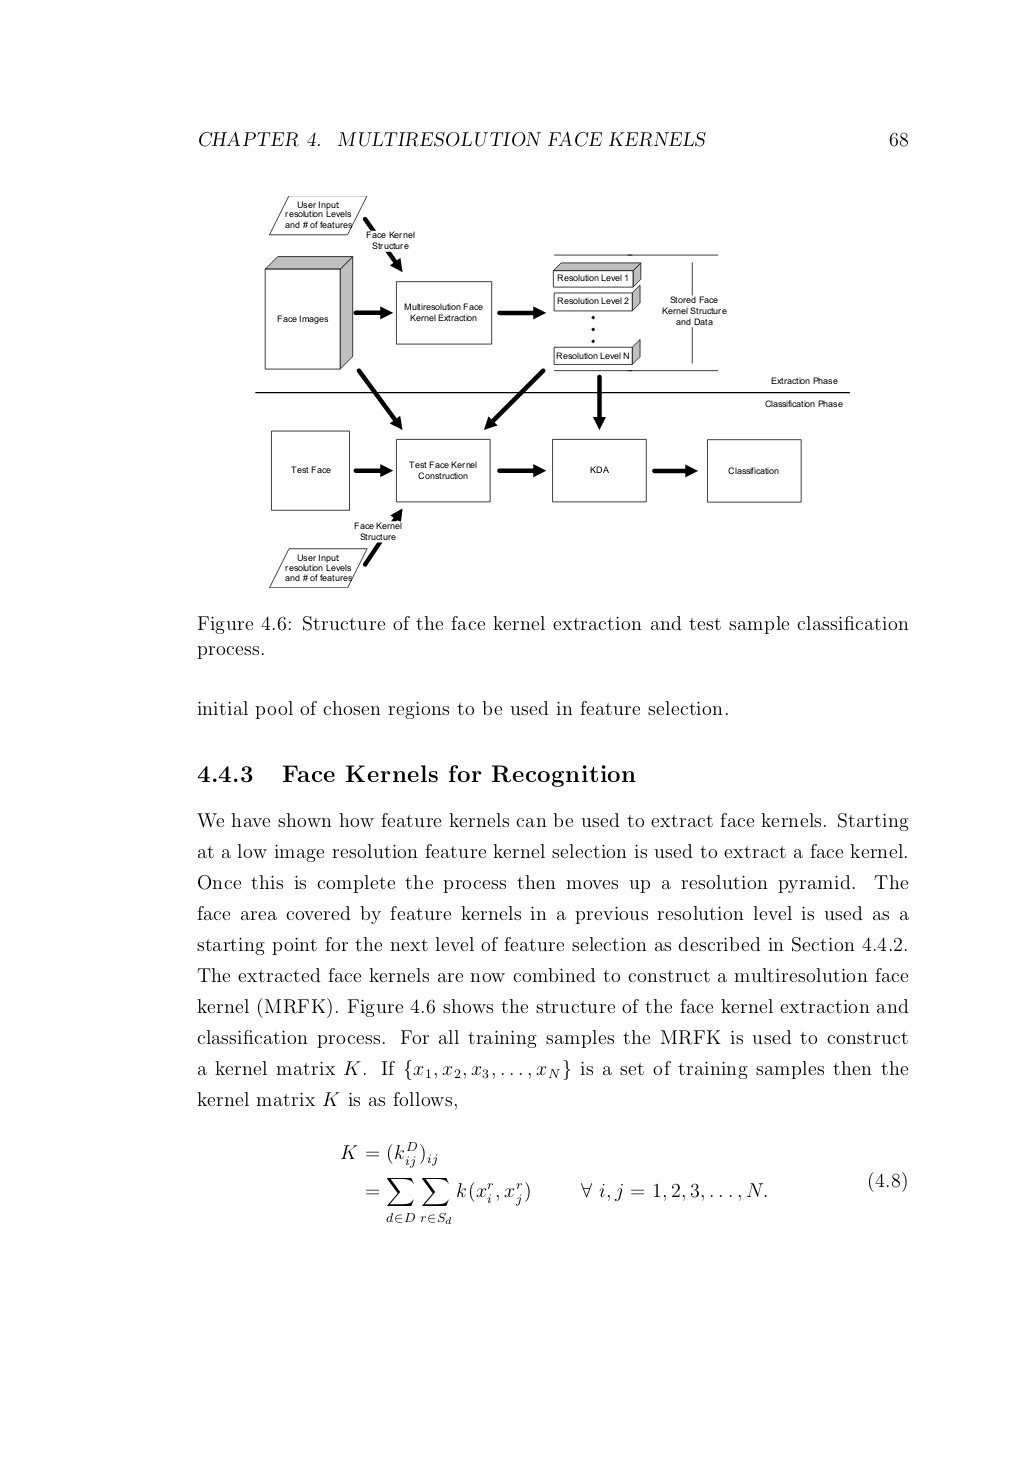figure: (256, 196, 849, 587)
formula: (366, 1172, 906, 1223), (341, 1141, 437, 1168)
